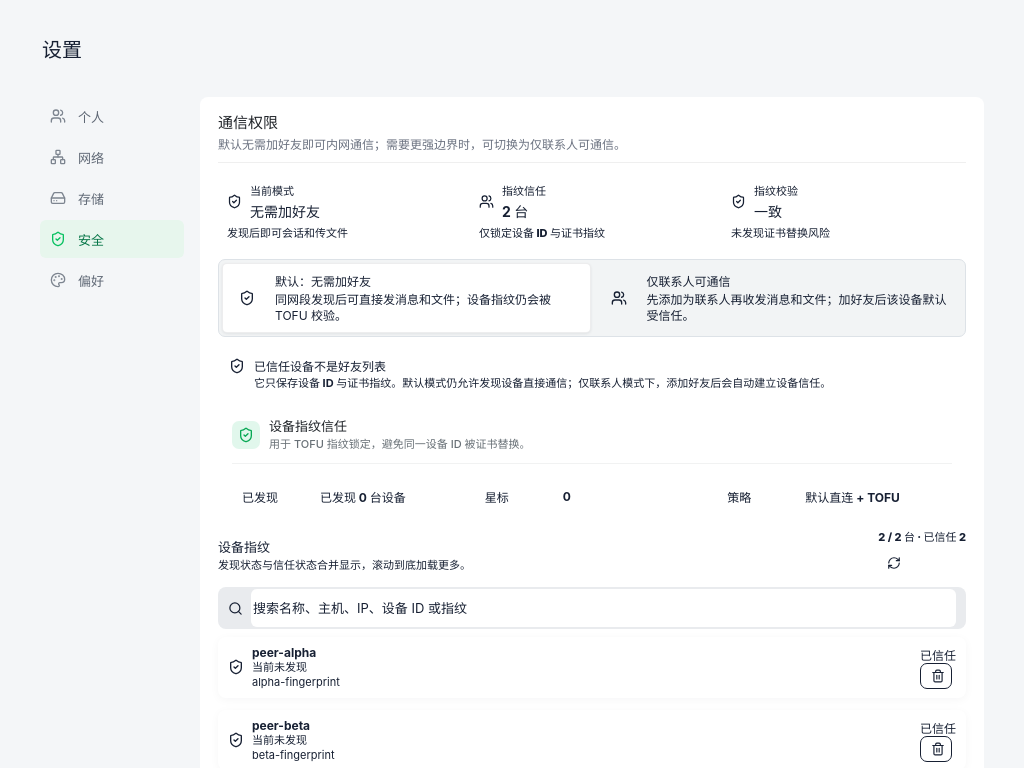
Test: WorkspacePanel settings › searches discovered and trusted devices in one list
Type "beta" into the field named "搜索设备指纹" at (604, 608), box [251, 589, 956, 627]
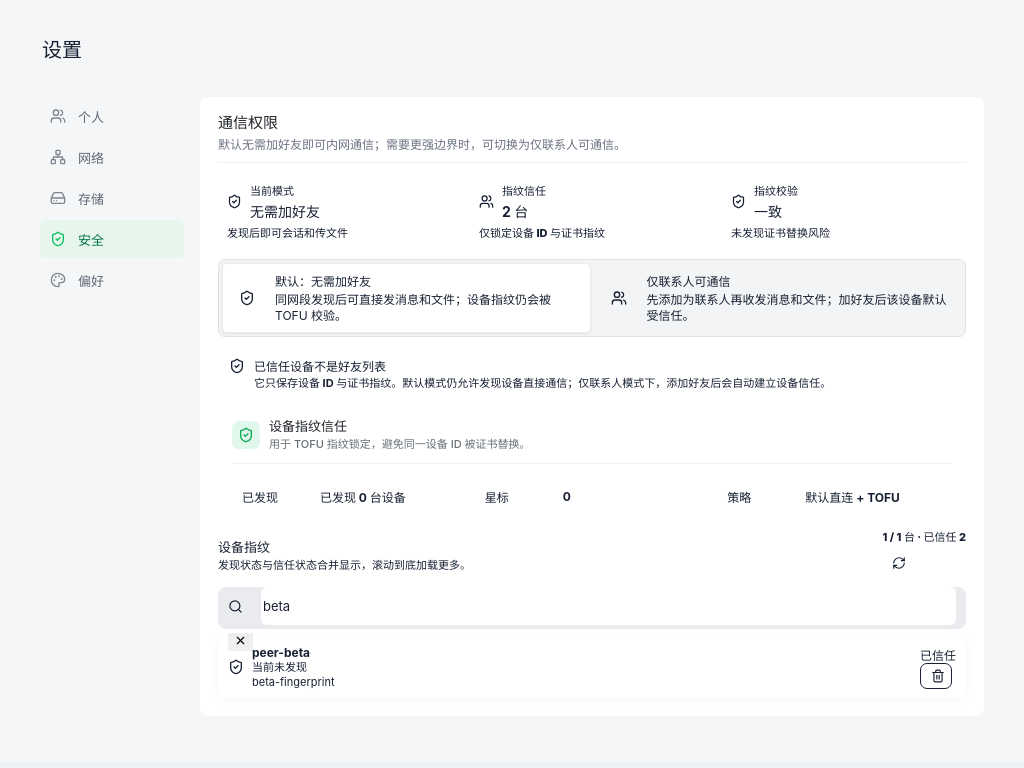
Expected: the text "peer-beta" is shown, [252, 645, 310, 660]
Result: the text "peer-alpha" is gone
